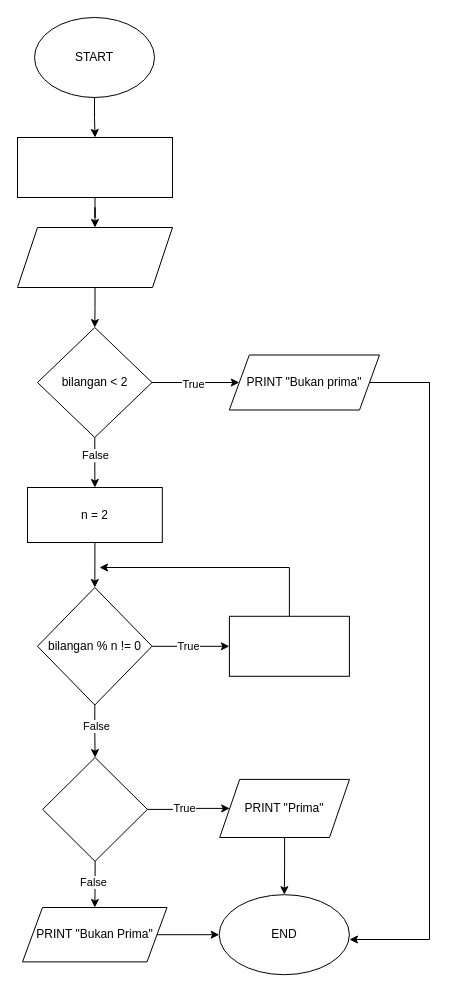
This 455x993 diagram has some shape labels left out. The centre of each missing label's shape, as x and y in pixels:
"INPUT bilangan" goes at point 94,257.
"Integer bilangan, n" goes at point 94,167.
"n = n + 1" goes at point 288,645.
"n = x" goes at point 94,808.
